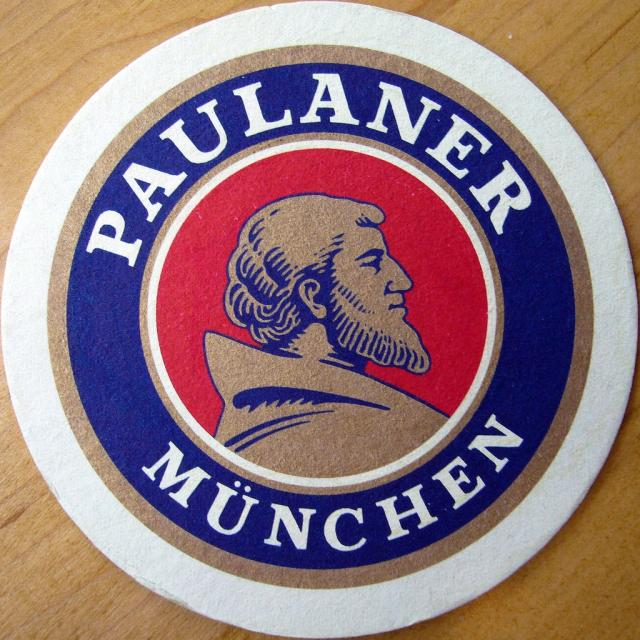paulaner: (46, 46, 596, 592)
